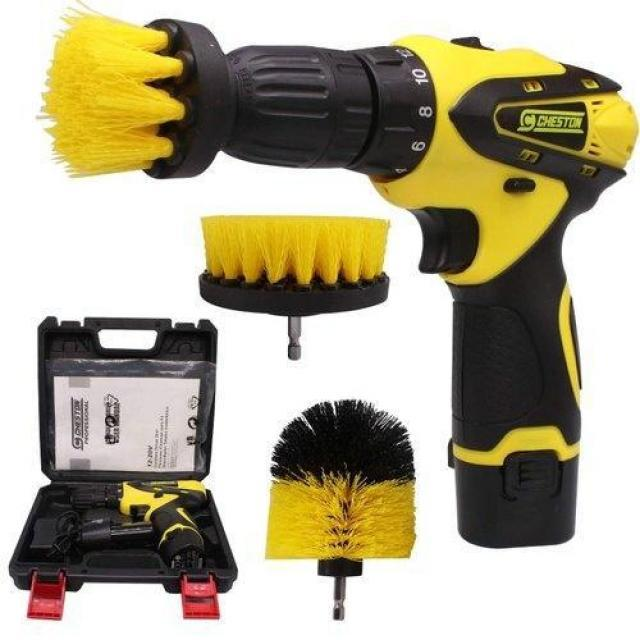drill: (220, 36, 640, 550), (62, 479, 208, 571)
